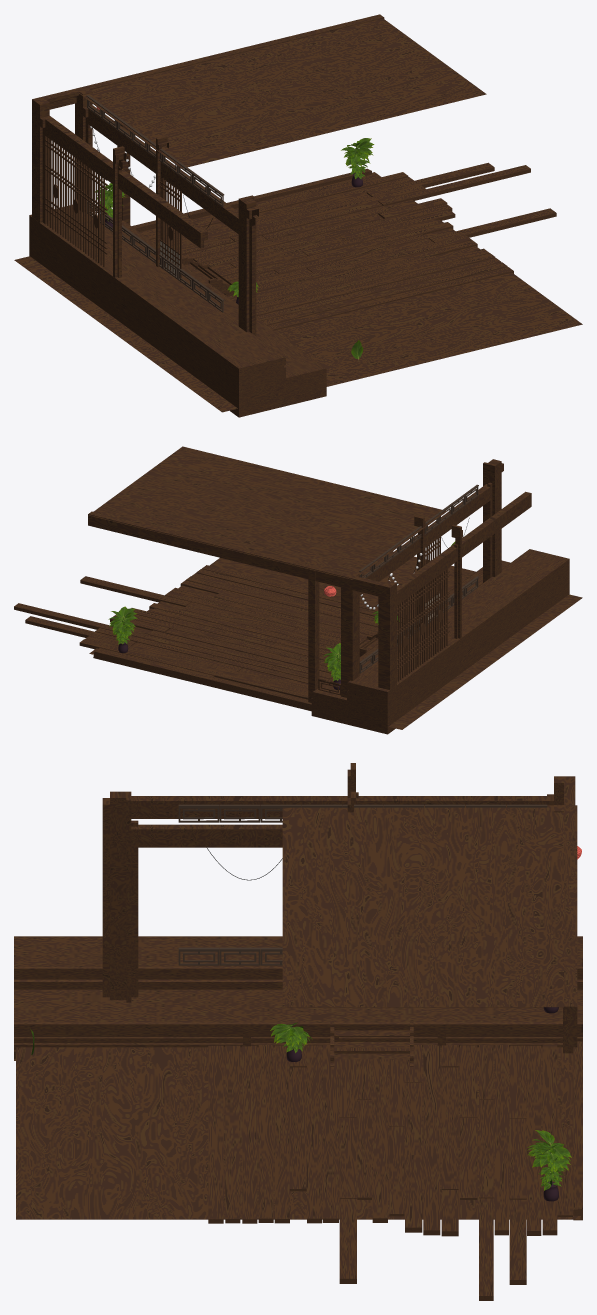
File: scene2_textures.fbx
3 views of the same model, one above another, from view 1: azimuth 30°, elevation 25°; view 2: azimuth 150°, elevation 25°; view 3: azimuth 270°, elevation 25° (orthographic). The views are drawn at different scales.
Visible parts, largest first — view 1: pillar_roof, Floor planks, terrass, Cube.011, fence long, Cube.001, plant.002; view 2: pillar_roof, Floor planks, terrass, Cube.011, fence long, plant.002, plant.001; view 3: pillar_roof, Floor planks, terrass, fence long, plant.002, plant.003.
Boxes of the visible parts, <box> form: pillar_roof: <box>14,14,582,412</box>; Floor planks: <box>131,162,556,330</box>; terrass: <box>29,204,326,417</box>; Cube.011: <box>44,135,107,266</box>; fence long: <box>86,95,224,312</box>; Cube.001: <box>162,178,181,280</box>; plant.002: <box>341,138,374,178</box>; pillar_roof: <box>88,446,582,729</box>; Floor planks: <box>14,565,415,711</box>; terrass: <box>311,549,569,734</box>; Cube.011: <box>397,566,449,681</box>; fence long: <box>359,484,478,673</box>; plant.002: <box>108,606,137,644</box>; plant.001: <box>323,643,340,680</box>; pillar_roof: <box>16,763,580,1219</box>; Floor planks: <box>208,1041,582,1300</box>; terrass: <box>14,936,582,1066</box>; fence long: <box>178,804,547,965</box>; plant.002: <box>527,1130,571,1190</box>; plant.003: <box>270,1022,312,1052</box>.
Size of the model in its own units: 1232 by 442 by 933.
